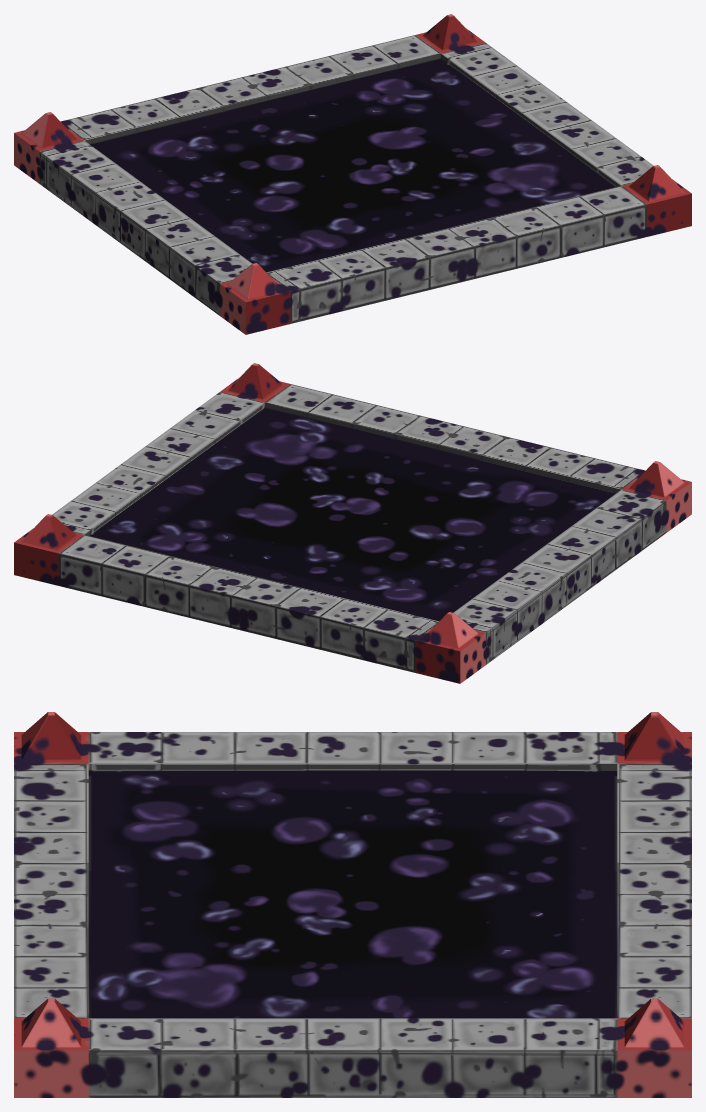
File: TrapSlow.fbx
3 views of the same model, one above another, from view 1: azimuth 30°, elevation 25°; view 2: azimuth 150°, elevation 25°; view 3: azimuth 270°, elevation 25° (orthographic). The views are drawn at different scales.
Visible parts, largest first — view 1: trap_slow; view 2: trap_slow; view 3: trap_slow.
Boxes of the visible parts, x1,y1,x2,y2 form: trap_slow: [14, 14, 691, 334]; trap_slow: [14, 363, 691, 683]; trap_slow: [14, 712, 691, 1097].
Size of the model in its own units: 200 by 23.91 by 180.
